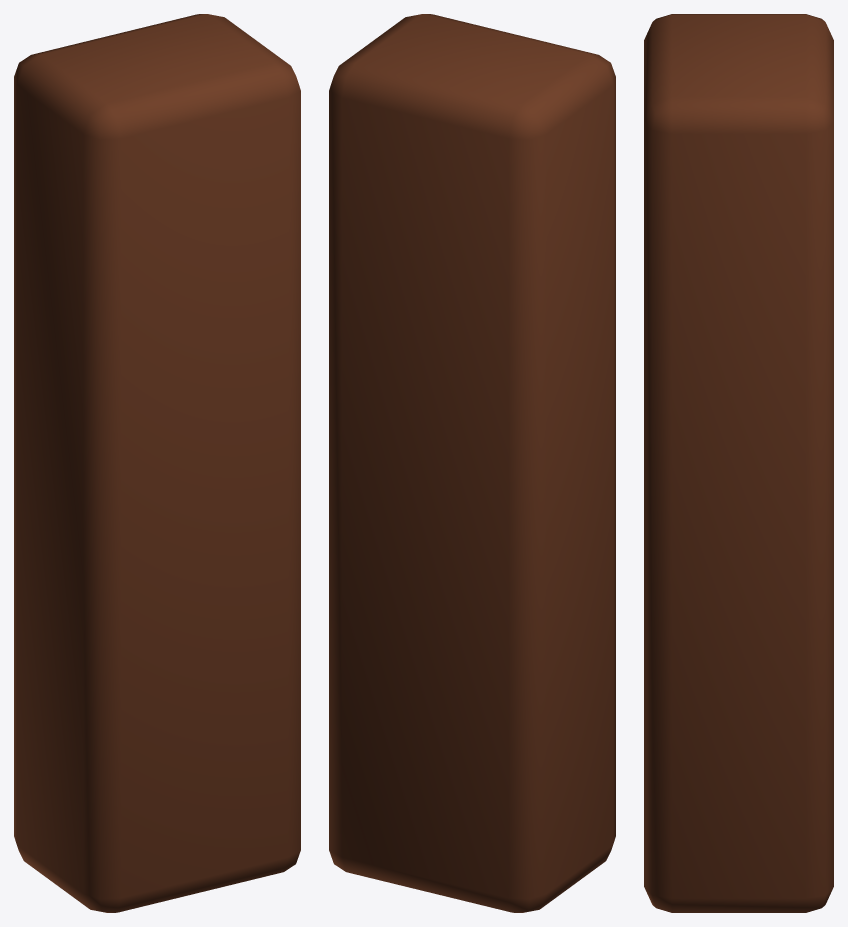
Rendered from topping-kit-kat.glb.
3 renders of one model, left to right at view 1: azimuth 30°, elevation 25°; view 2: azimuth 150°, elevation 25°; view 3: azimuth 270°, elevation 25°, orthographic.
Parts seen in each view (by area): view 1: topping-kit-kat; view 2: topping-kit-kat; view 3: topping-kit-kat.
Boxes of the visible parts, left/top/right/bottom form: topping-kit-kat: left=14, top=14, right=300, bottom=912; topping-kit-kat: left=329, top=14, right=615, bottom=912; topping-kit-kat: left=644, top=14, right=833, bottom=912.
Size of the model in its own units: 0.0125 by 0.045 by 0.0095.
